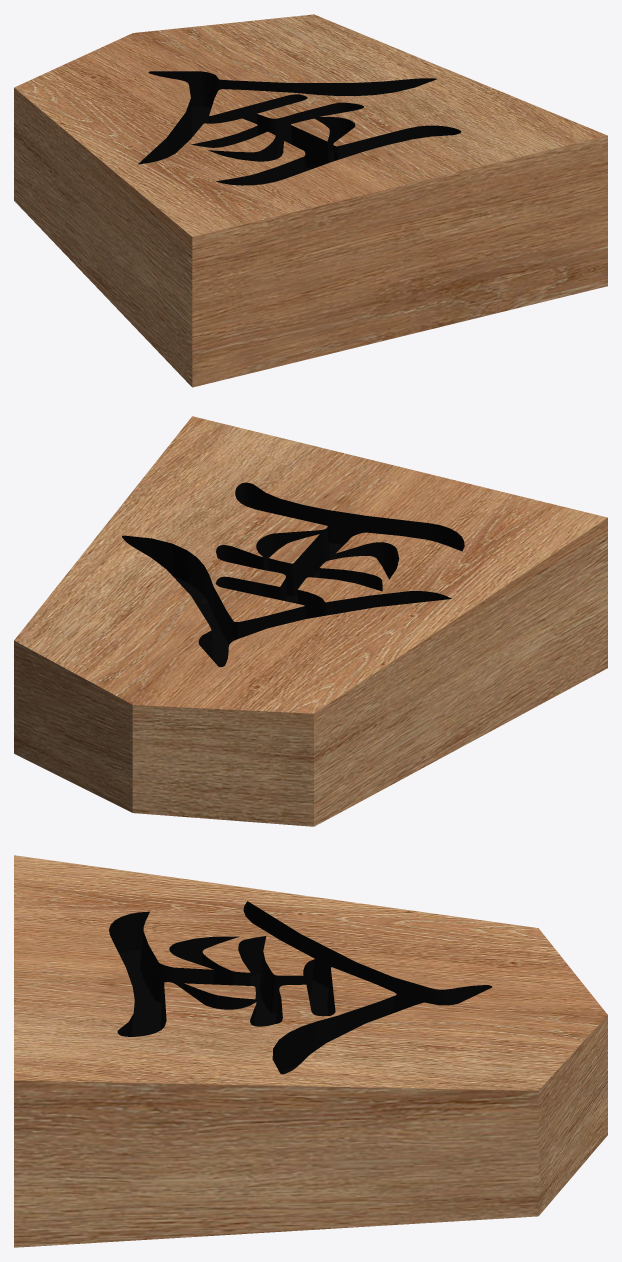
File: GoldGeneral.fbx
3 views of the same model, one above another, from view 1: azimuth 30°, elevation 25°; view 2: azimuth 150°, elevation 25°; view 3: azimuth 270°, elevation 25° (orthographic). The views are drawn at different scales.
Parts seen in each view (by area): view 1: Gold; view 2: Gold; view 3: Gold.
Boxes of the visible parts, left/top/right/bottom form: Gold: left=14, top=14, right=607, bottom=387; Gold: left=14, top=416, right=607, bottom=826; Gold: left=14, top=855, right=607, bottom=1247.
Size of the model in its own units: 2430 by 841 by 2706.
